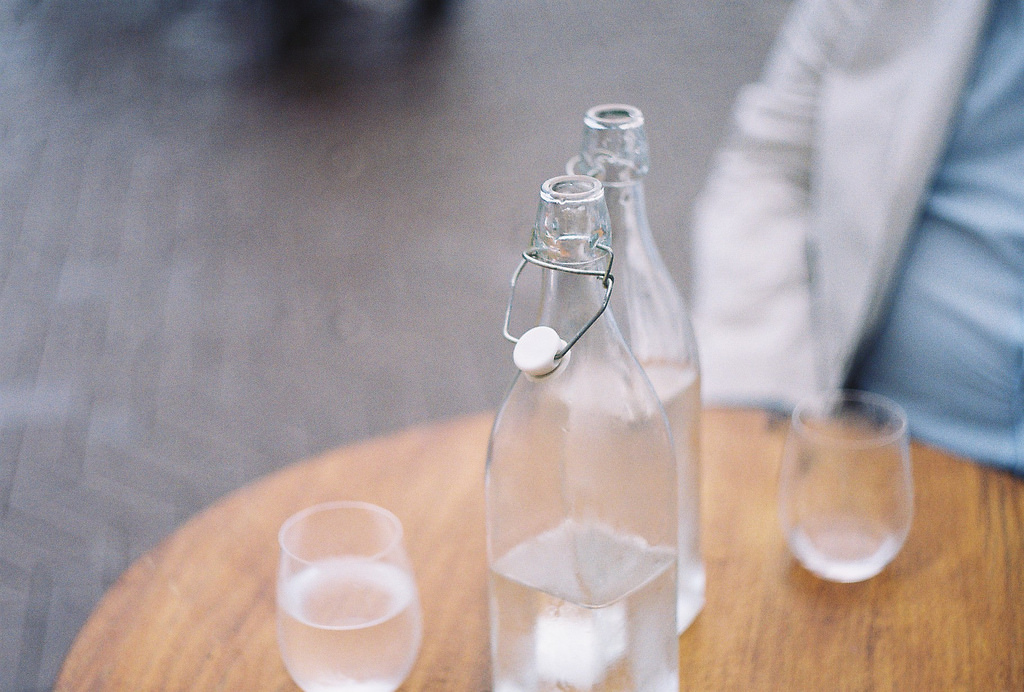glass of water: (579, 259, 704, 631), (485, 517, 681, 692), (269, 501, 424, 691), (787, 396, 908, 579)
